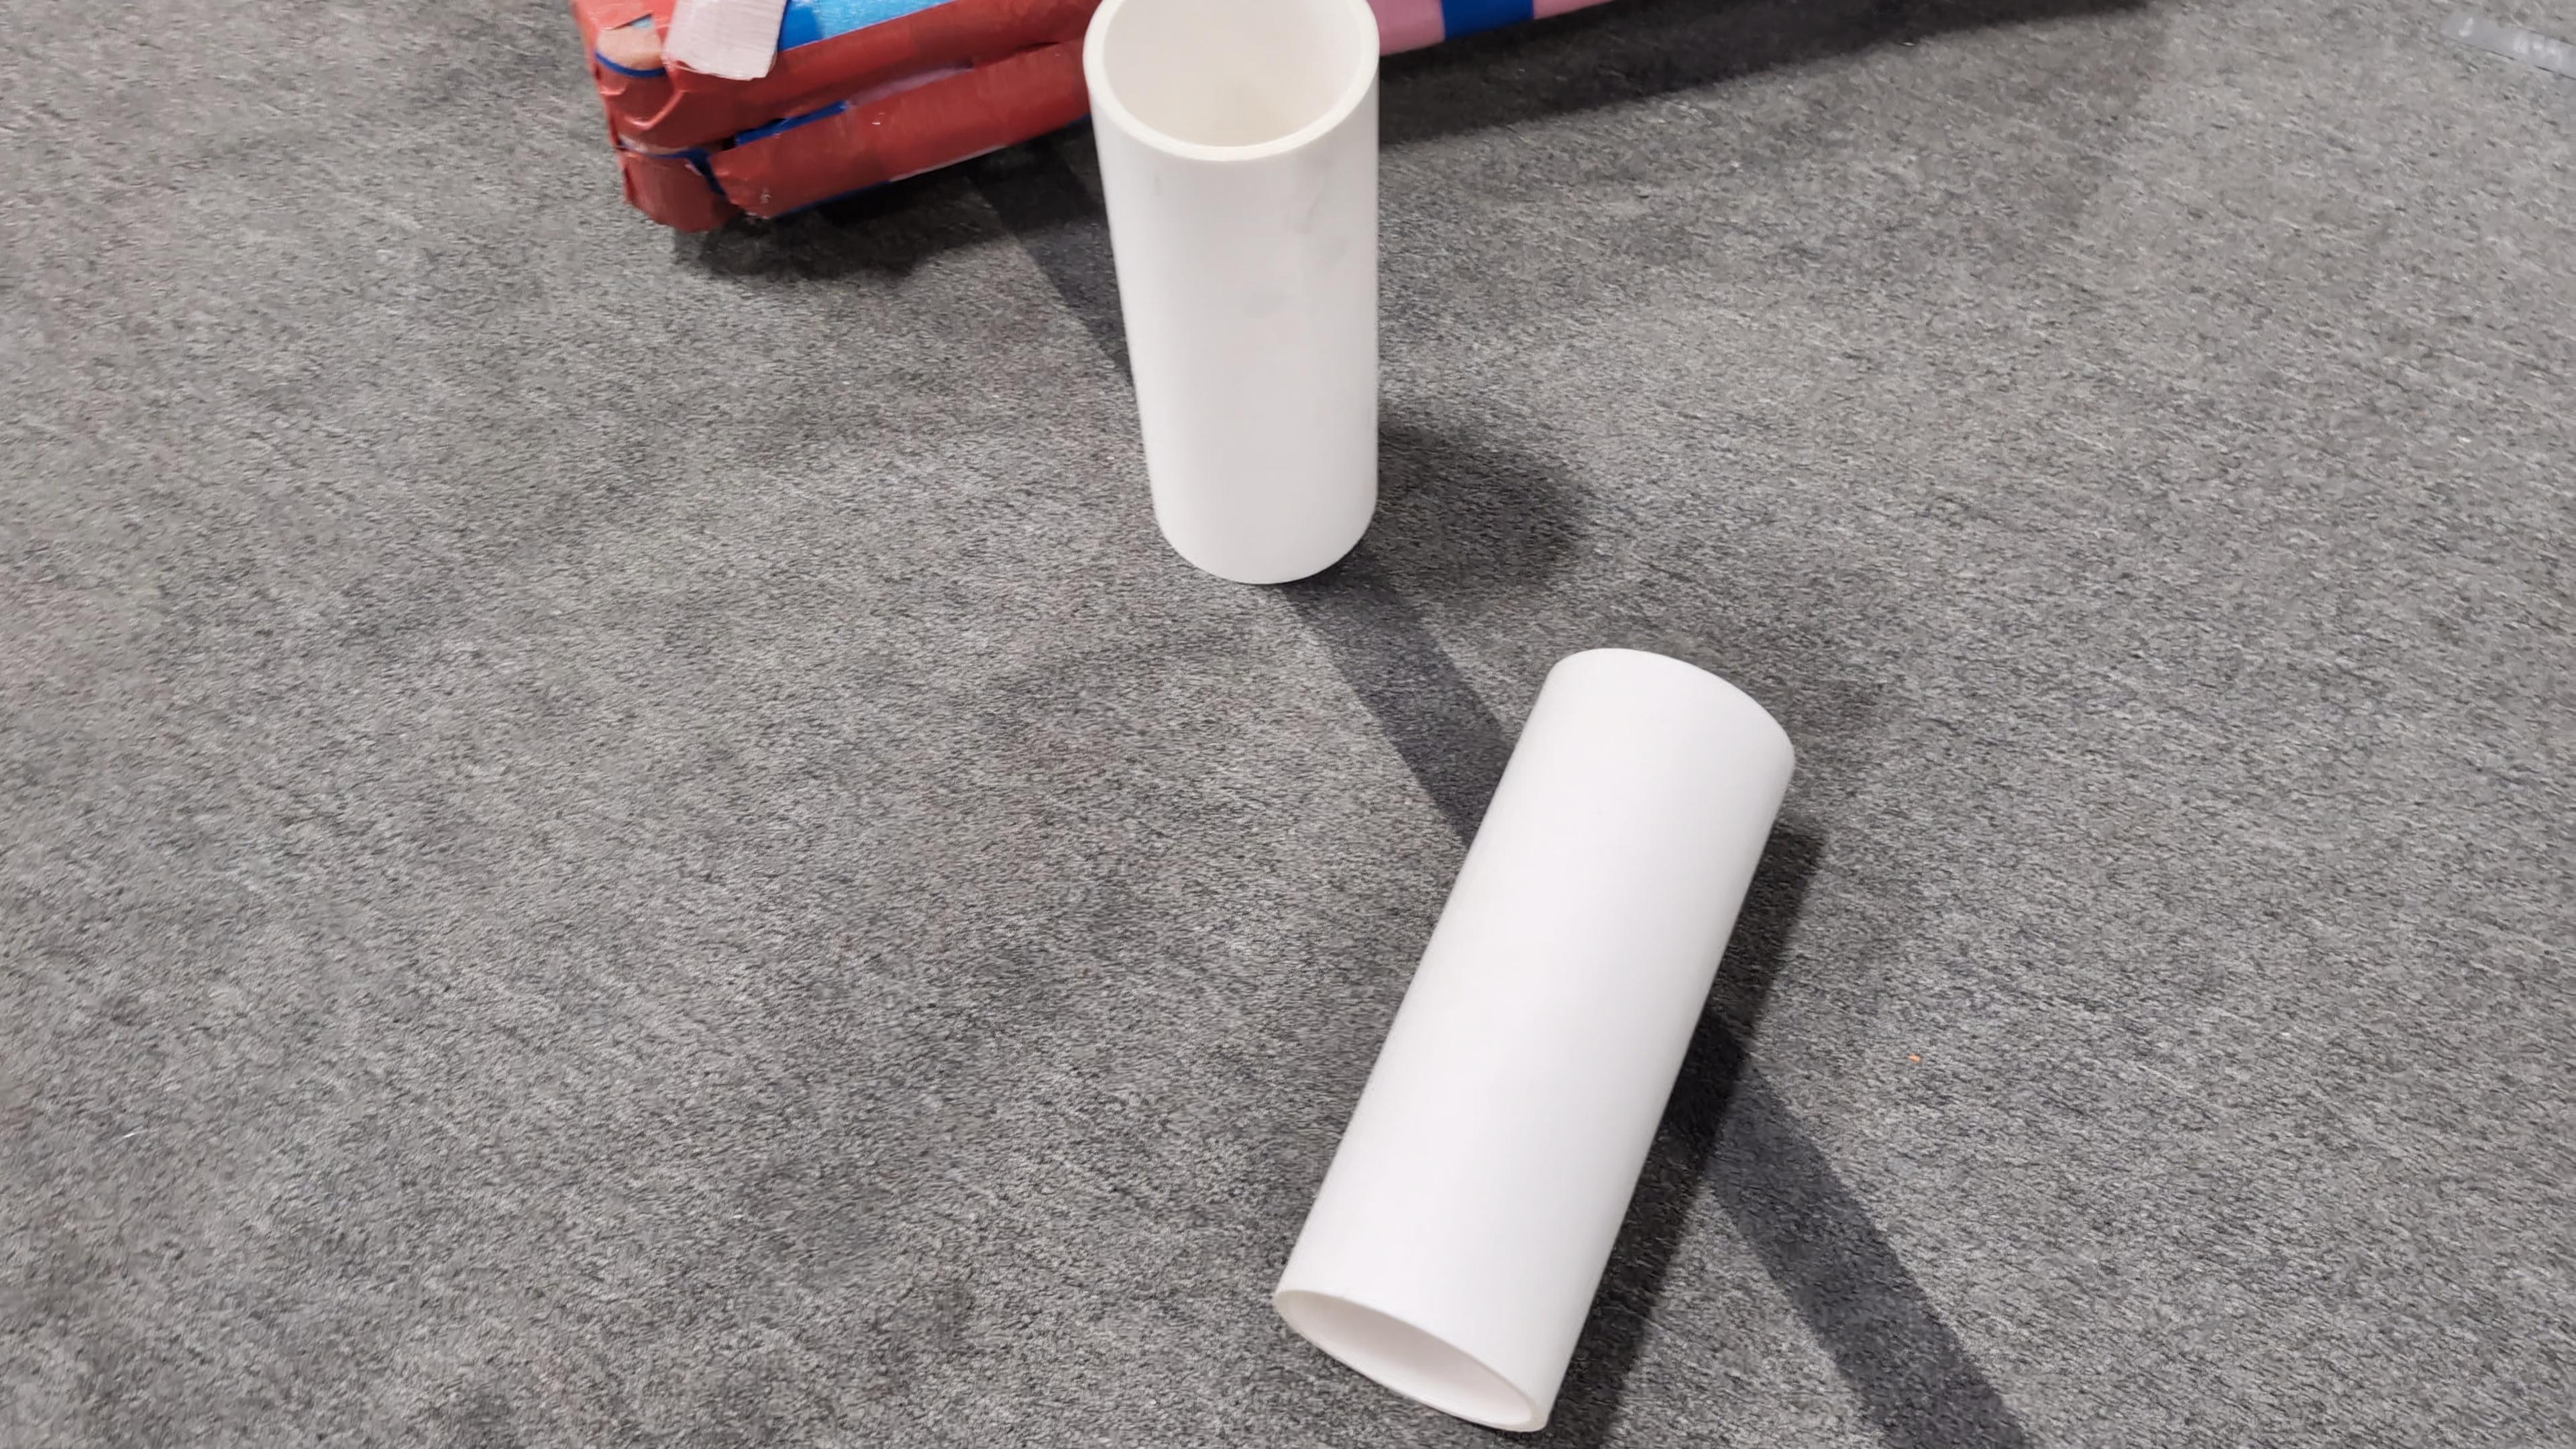coral: (1265, 639, 1801, 1431), (1077, 2, 1382, 586)
